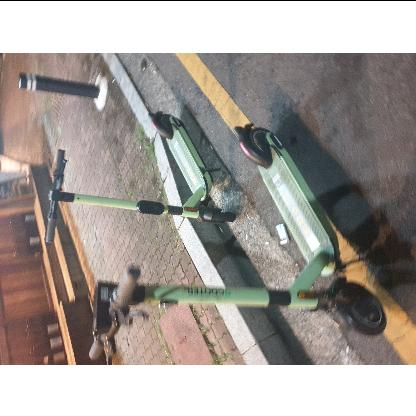bike: (36, 57, 405, 362)
